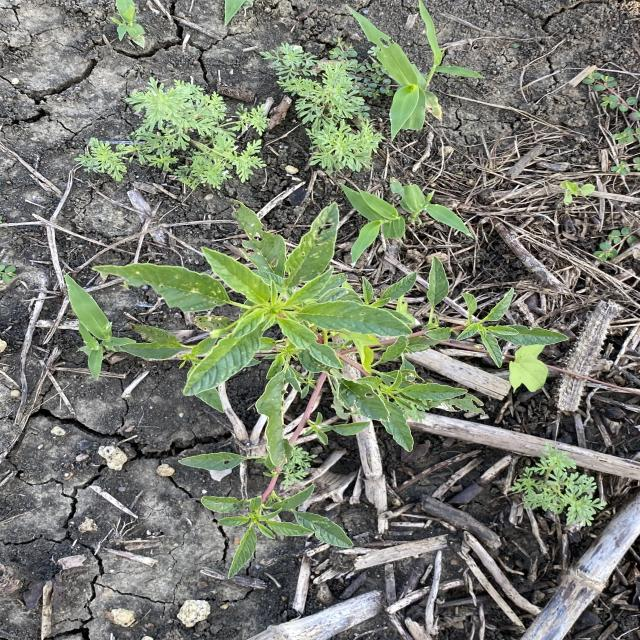Ragweed: (73, 74, 280, 198), (253, 41, 390, 178), (493, 438, 609, 531)
SpottedSpurge: (580, 70, 638, 176), (592, 222, 638, 264)
Waterhemp: (83, 196, 579, 584)
